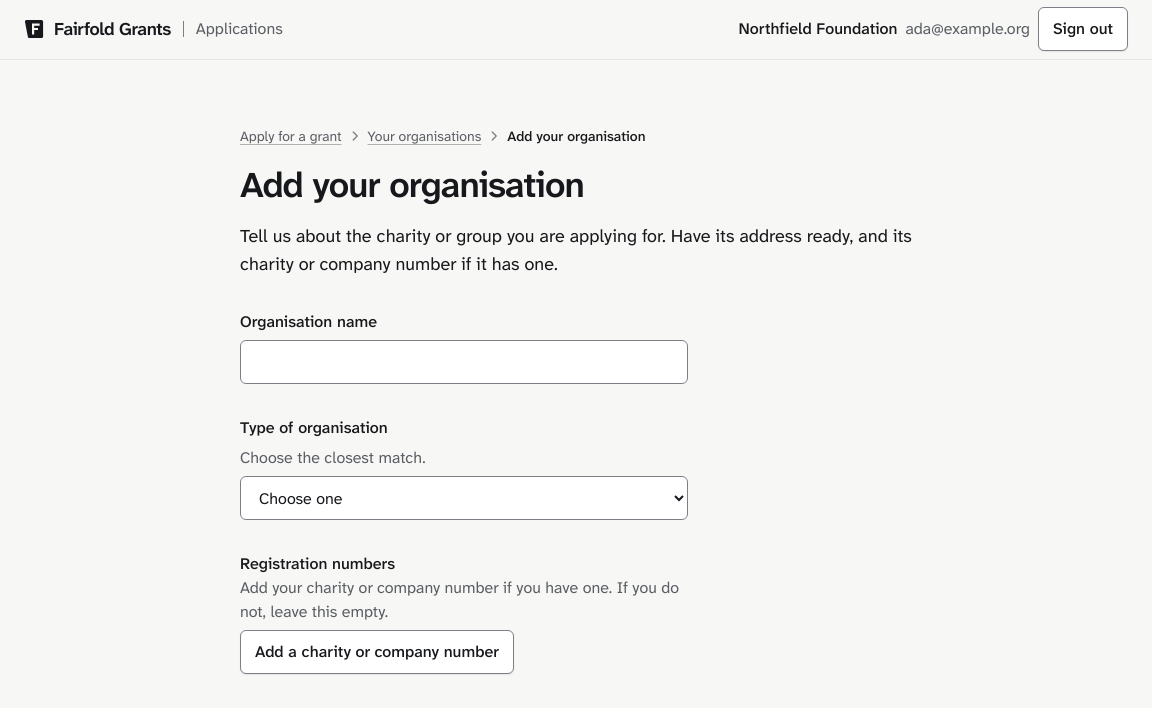
Test: adding an organisation › adds a number from a list in plain words, and takes focus there
The image size is (1152, 708).
Click the button "Add a charity or company number" at [377, 652], box [240, 630, 514, 674]
(page scrolled)
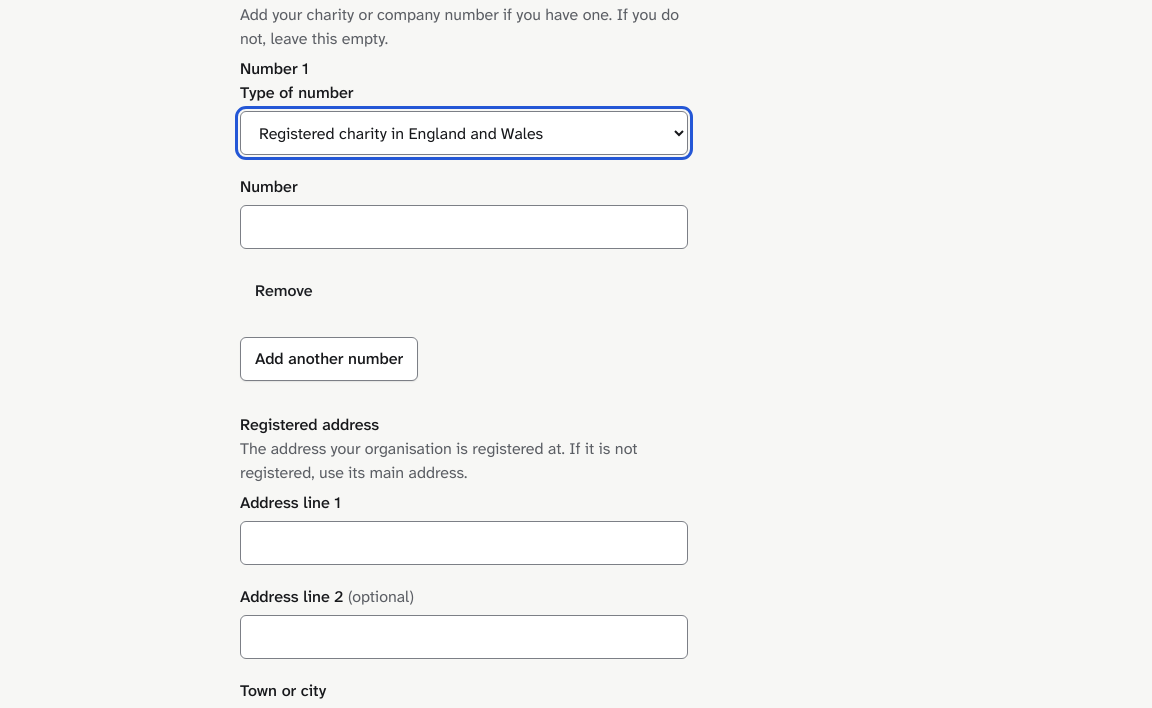
Expected: the dropdown labelled "Type of number" shows "Registered charity in England and Wales", [240, 111, 688, 155]
Expected: the field labelled "Number" is shown, [240, 205, 688, 249]
Expected: the button "Add another number" is shown, [240, 337, 418, 381]
